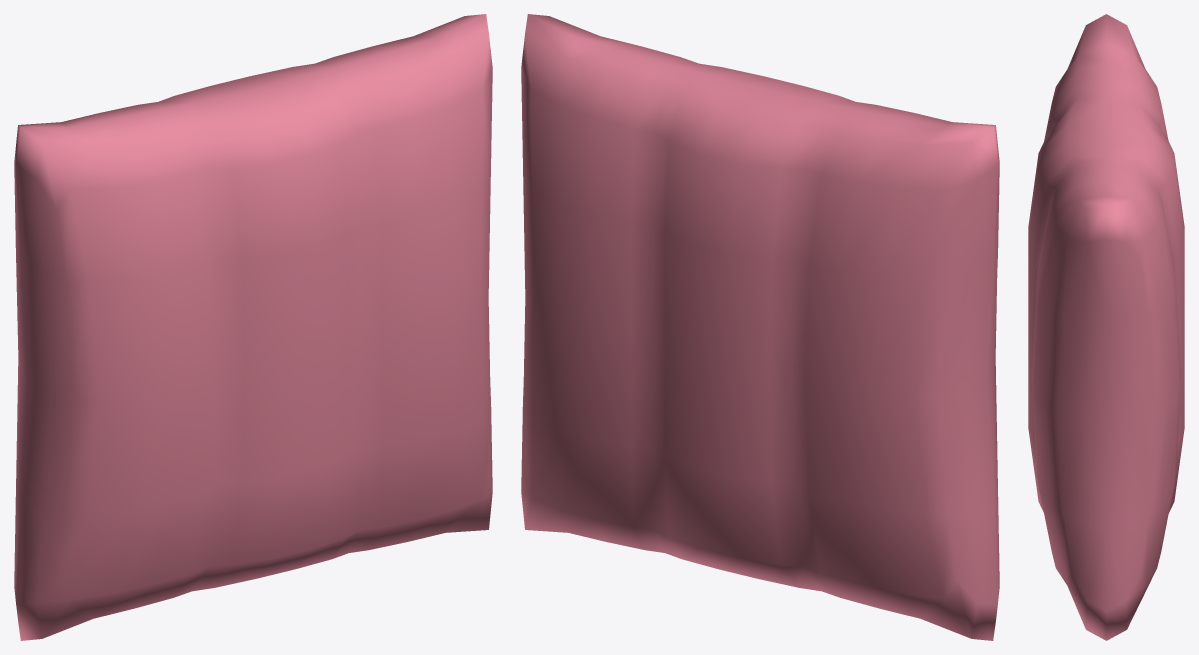
The model's file is Pillow_14.glb.
3 views of the same model, side by side, from view 1: azimuth 30°, elevation 25°; view 2: azimuth 150°, elevation 25°; view 3: azimuth 270°, elevation 25° (orthographic). The views are drawn at different scales.
Parts seen in each view (by area): view 1: Pillow_14; view 2: Pillow_14; view 3: Pillow_14.
Boxes of the visible parts, left/top/right/bottom form: Pillow_14: left=14, top=14, right=492, bottom=640; Pillow_14: left=521, top=14, right=999, bottom=640; Pillow_14: left=1028, top=14, right=1184, bottom=640.
Bounding box in the file's own units: 0.3835 × 0.3964 × 0.1293.
Materials: 1 (1 with a texture image).
